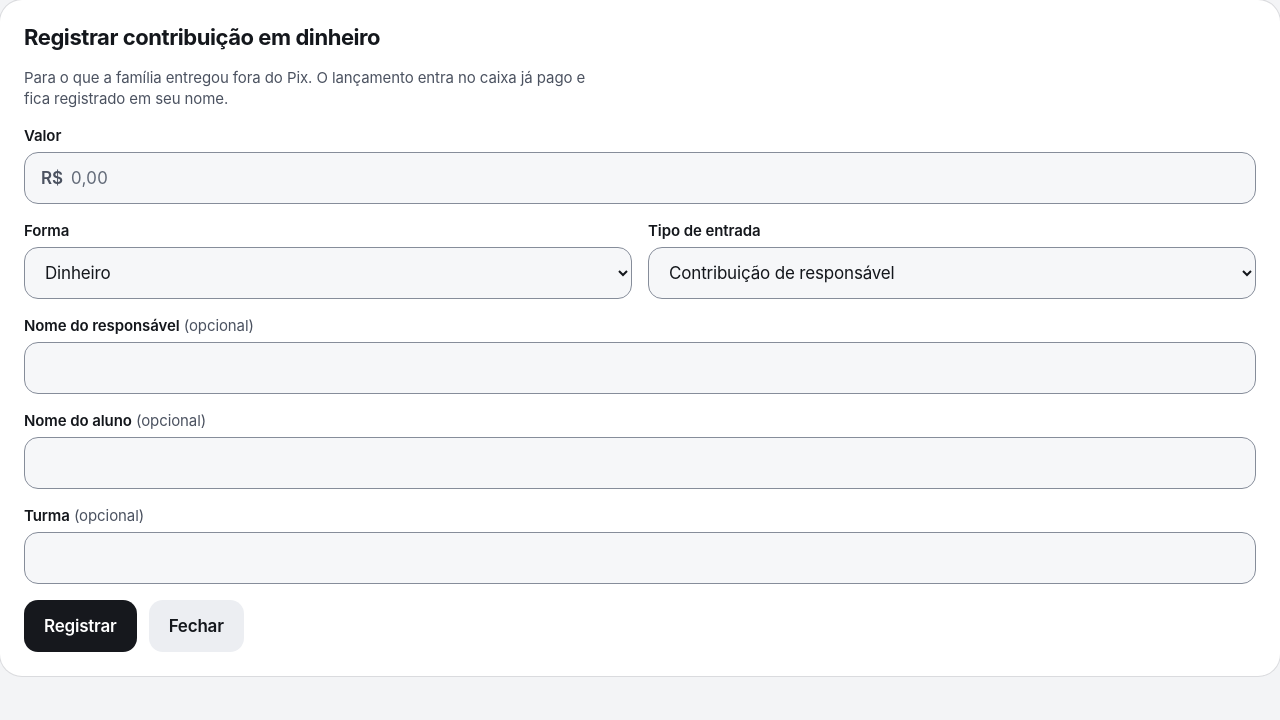
Test: CashContributionForm › 403 e 422: textos em portugues e erro ao lado do campo
Type "5000" into the field labelled "Valor". click: [655, 178]
box: [71,153,1239,203]
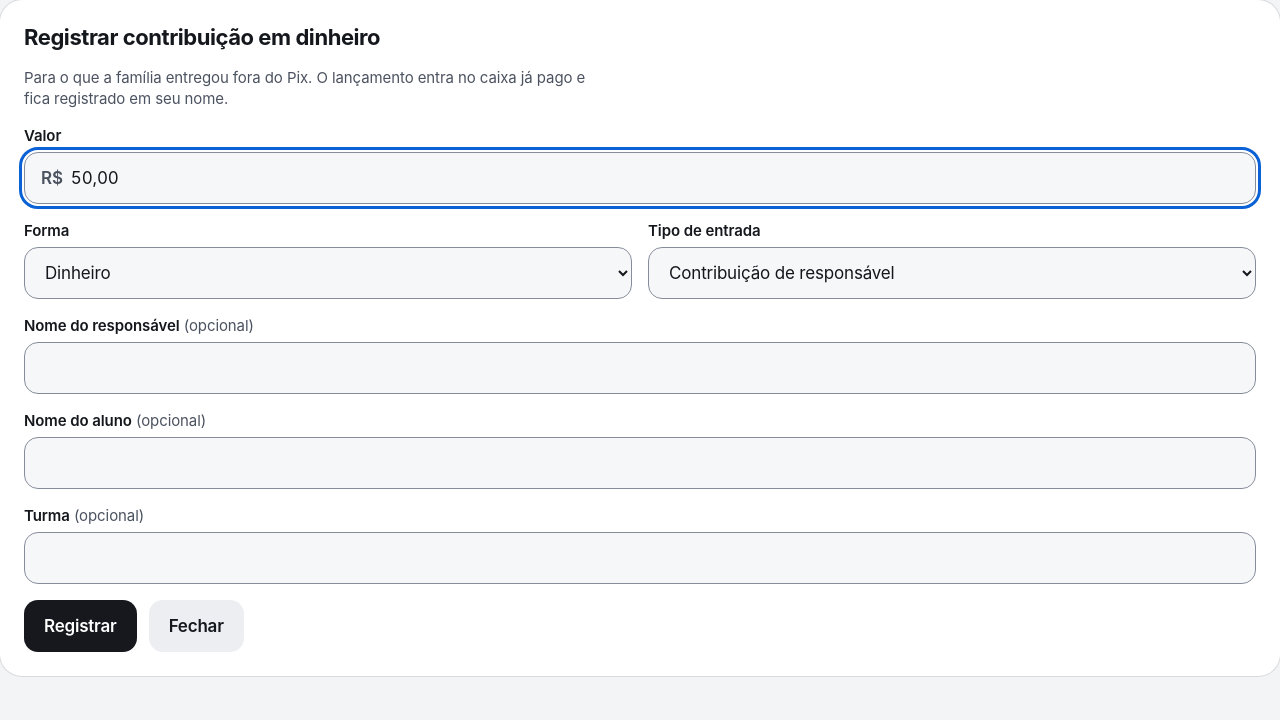
Click the button "Registrar". click: [80, 626]
box: [24,600,137,652]
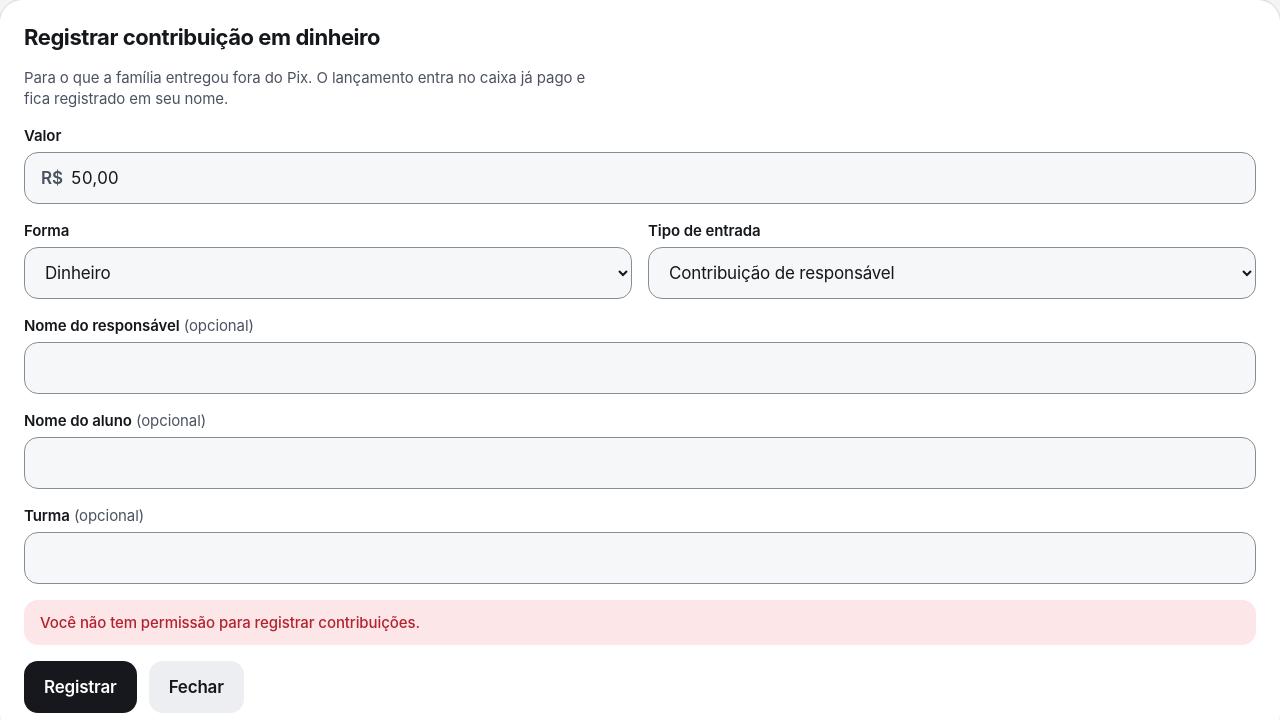
Check: the message shows "Você não tem permissão para registrar contribuições", box [40,613,420,632]
Click the button "Registrar". click: [80, 687]
box: [24,661,137,713]
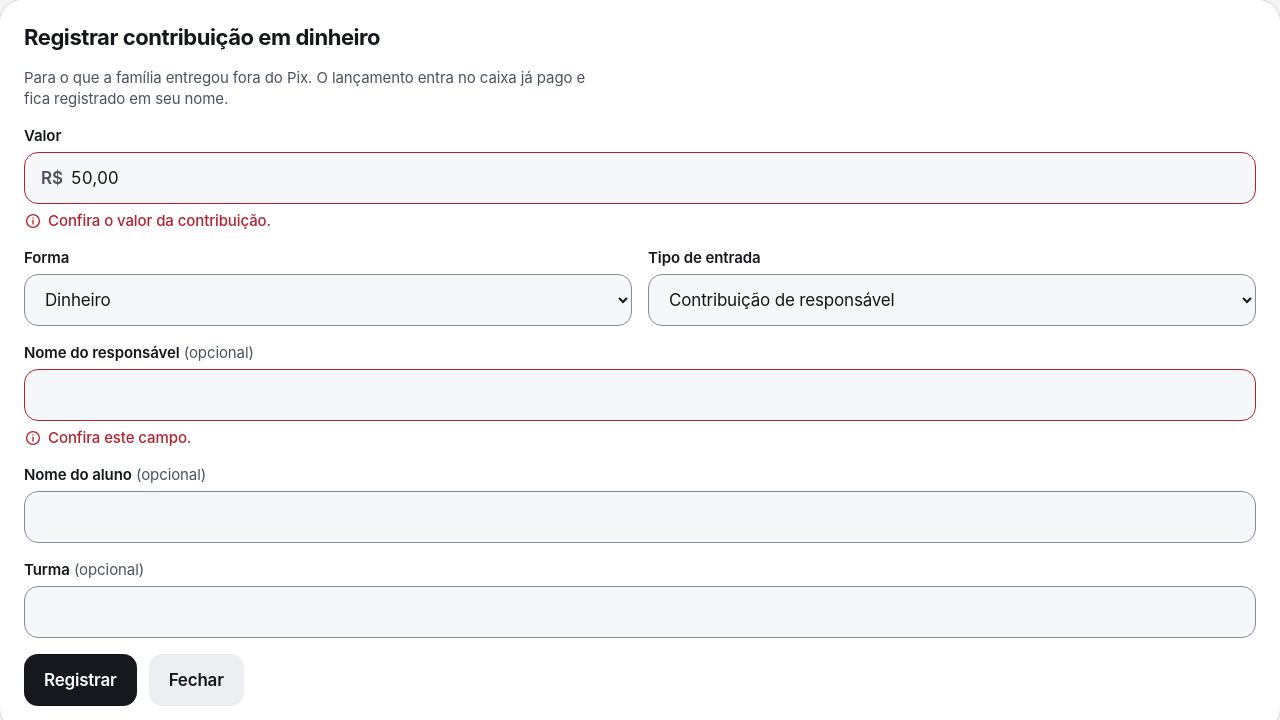
Check: the text "Confira o valor da contribuição." is shown, box [24,211,271,230]
Check: the text "Confira este campo." is shown, box [24,428,191,447]
